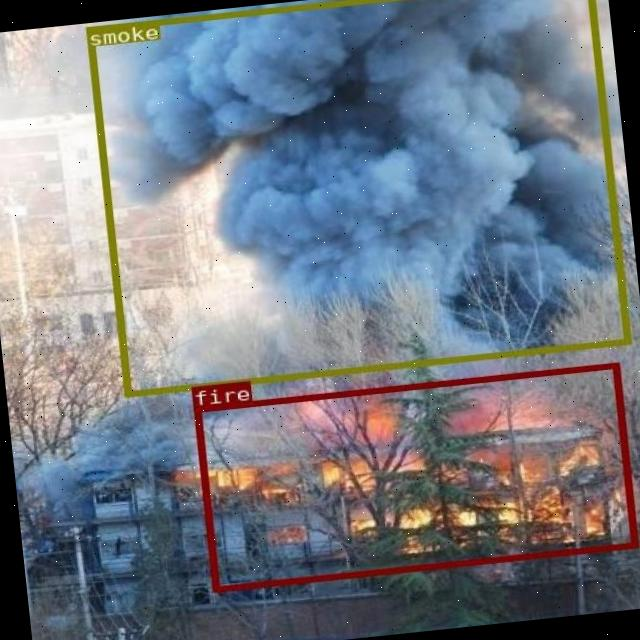fire: (193, 361, 636, 591)
smoke: (84, 0, 630, 396)
